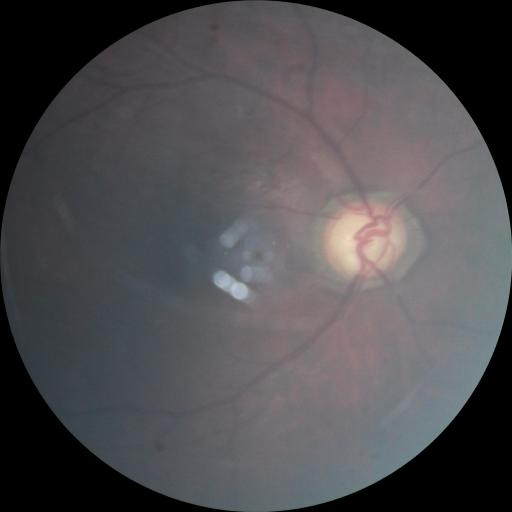Optic Disc: (322, 201, 406, 281)
